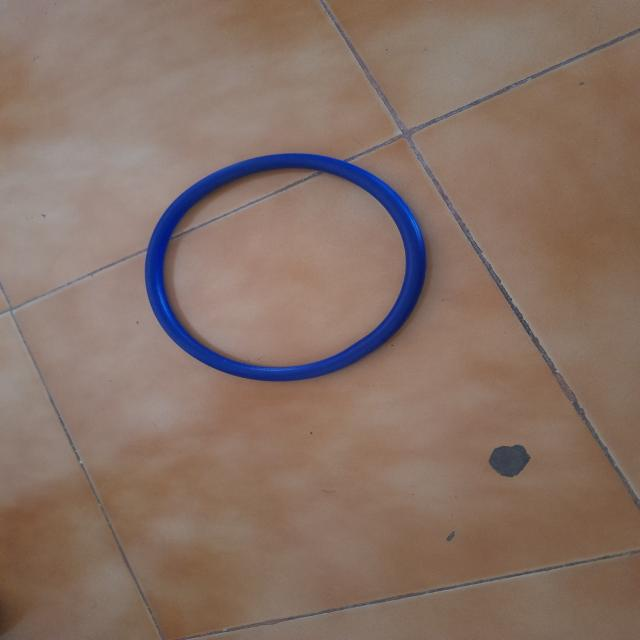daire: (143, 155, 425, 379)
